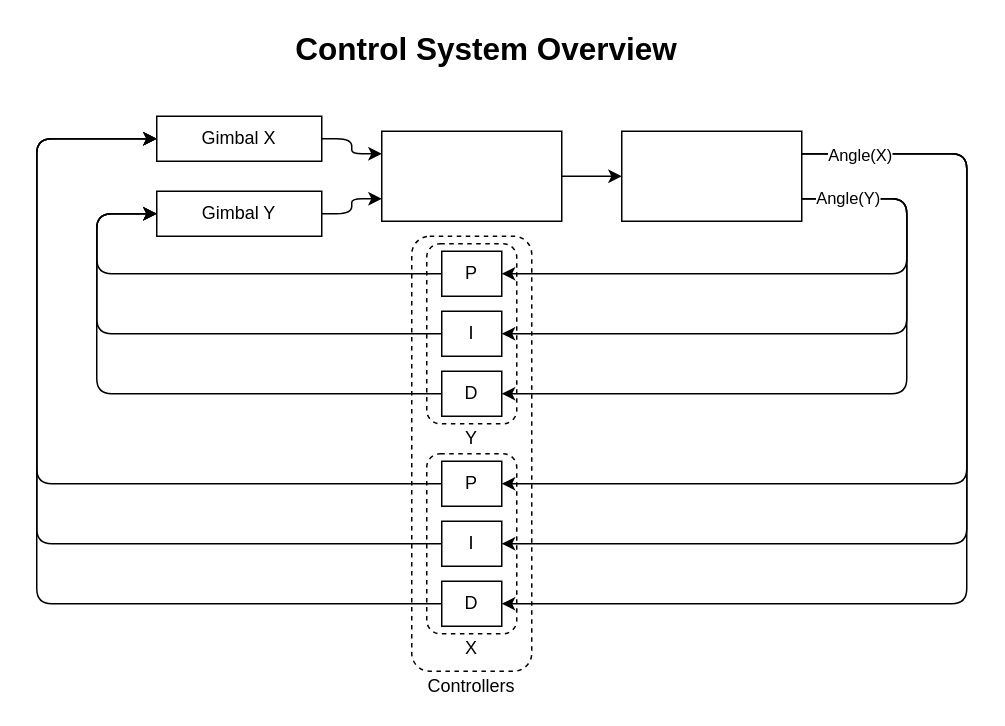
Some shapes in this 1005 by 726 pixel diagram are drawn without their labels. The shapes that lost their labels are listed below. From the top down, each one's box as (x1, y1, x2, y2) in pixels, then its label:
(380, 130, 562, 221): Rocket
(620, 130, 802, 221): IMU
